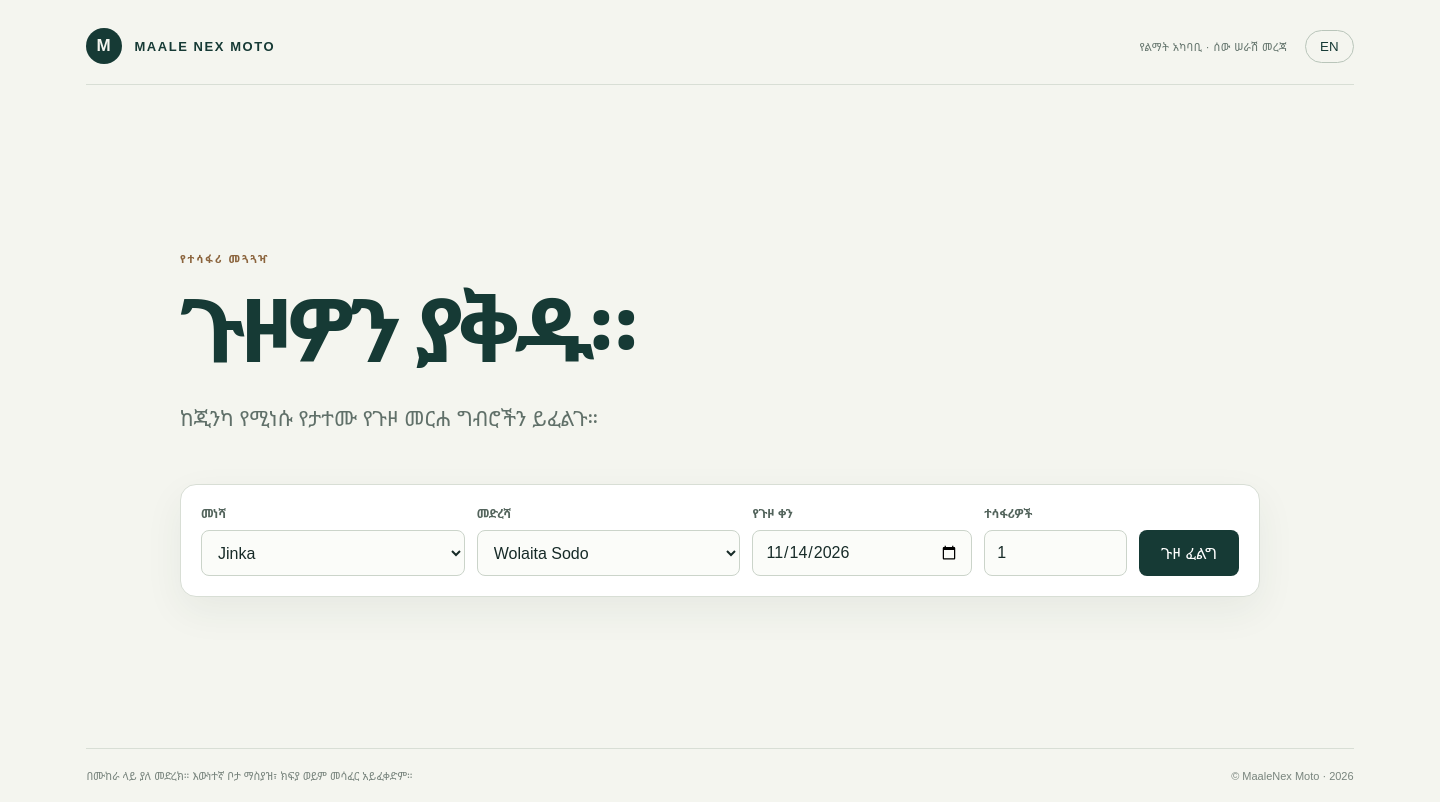
Test: passenger trip search shell › ignores stale seat inventory after a different trip is selected
Click the button "ጉዞ ፈልግ" at (1189, 553), box [1139, 530, 1239, 576]
(page scrolled)
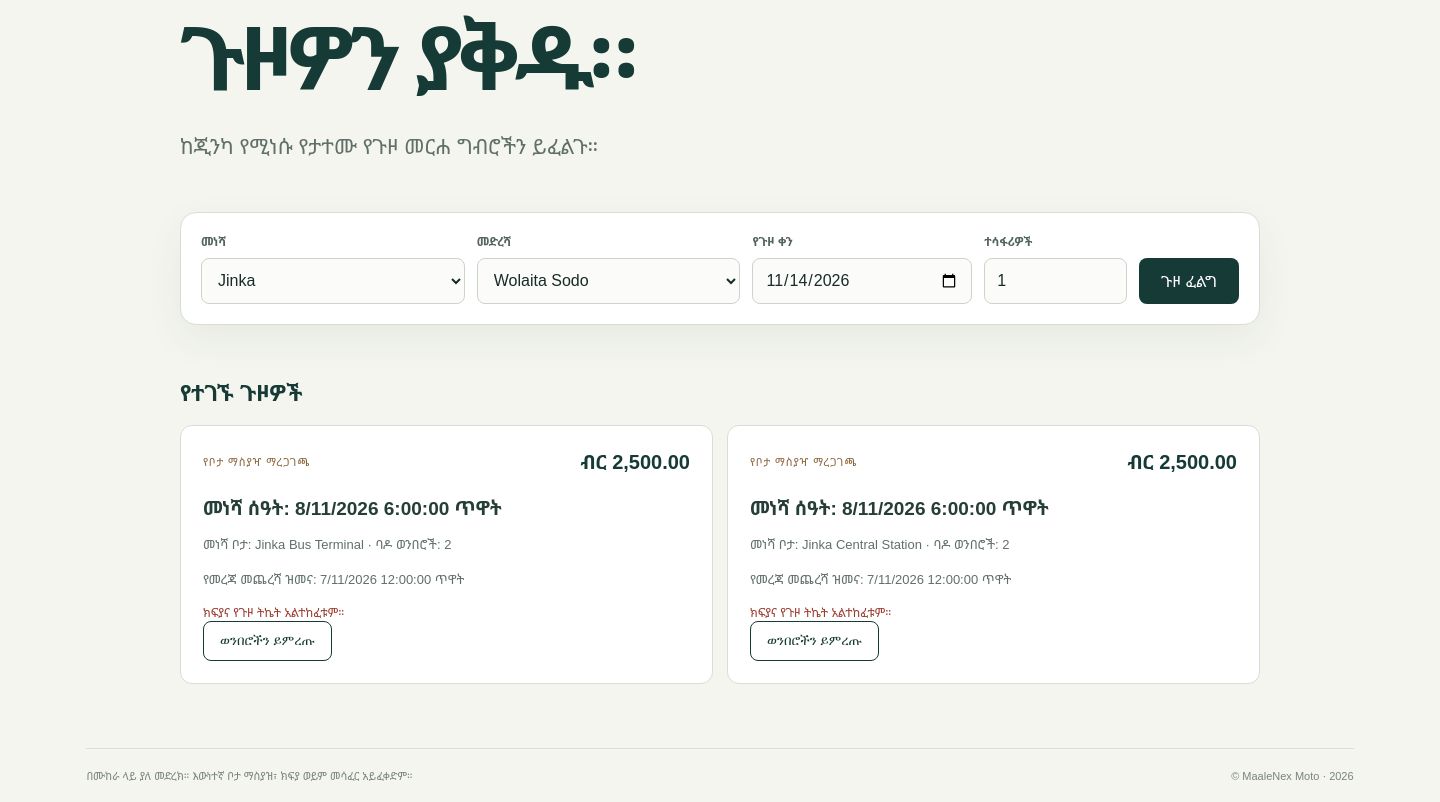
Expected: the number of buttons "ወንበሮችን ይምረጡ" is 2
Click the button "ወንበሮችን ይምረጡ" below "Jinka Bus Terminal" at (268, 641), box [203, 621, 332, 661]
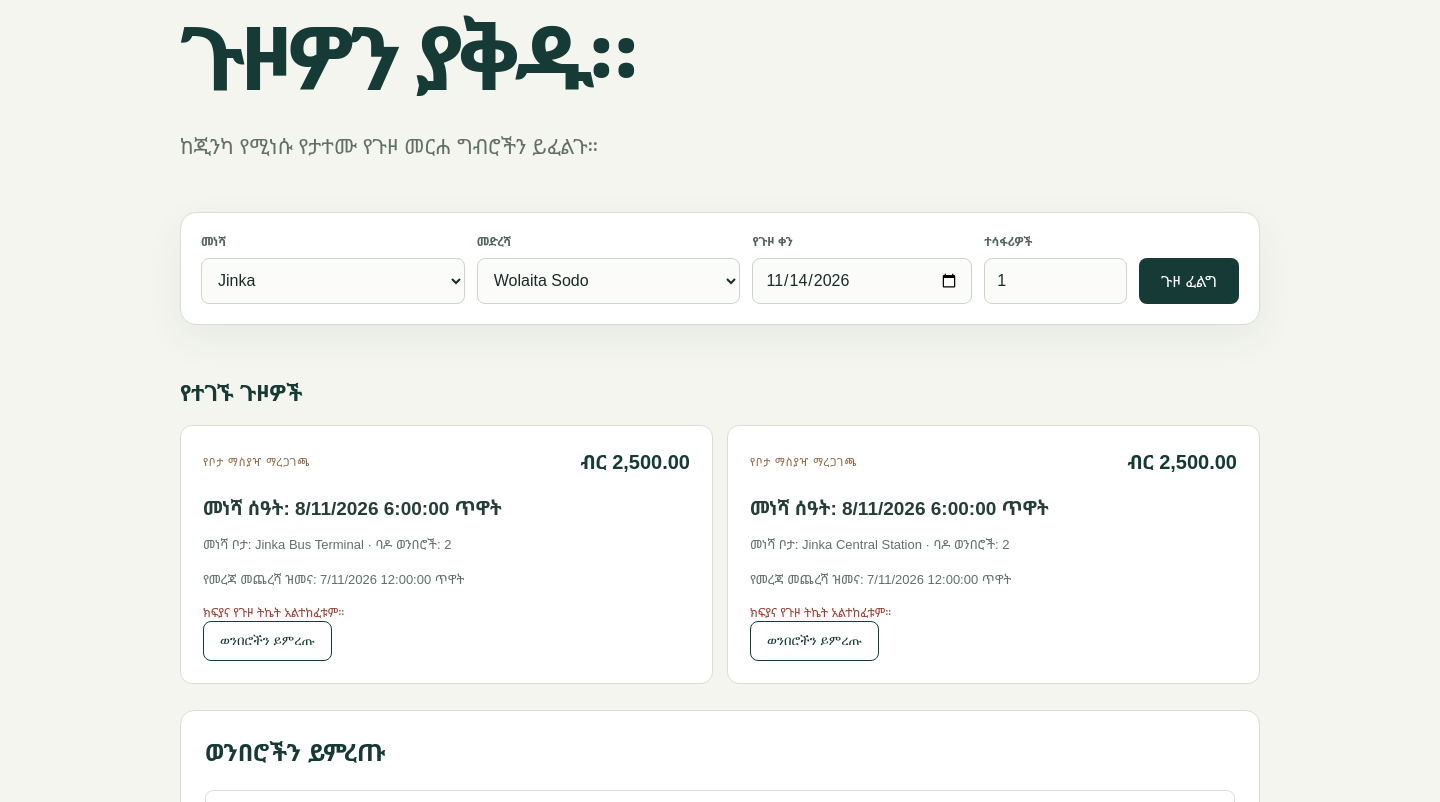
Click the button "ወንበሮችን ይምረጡ" below "Jinka Central Station" at (814, 641), box [750, 621, 879, 661]
(page scrolled)
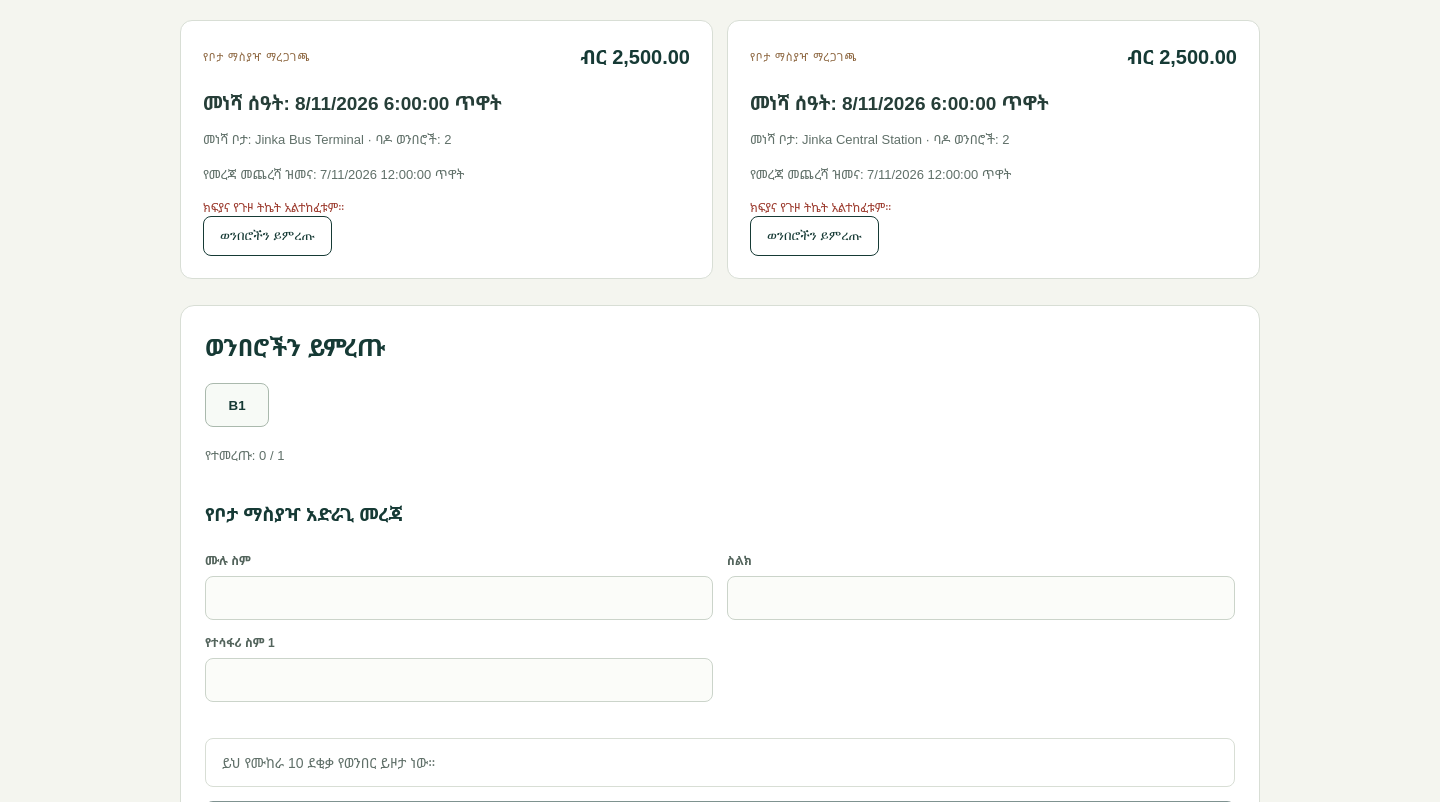
Expected: the button "B1" is shown, [205, 383, 269, 427]
